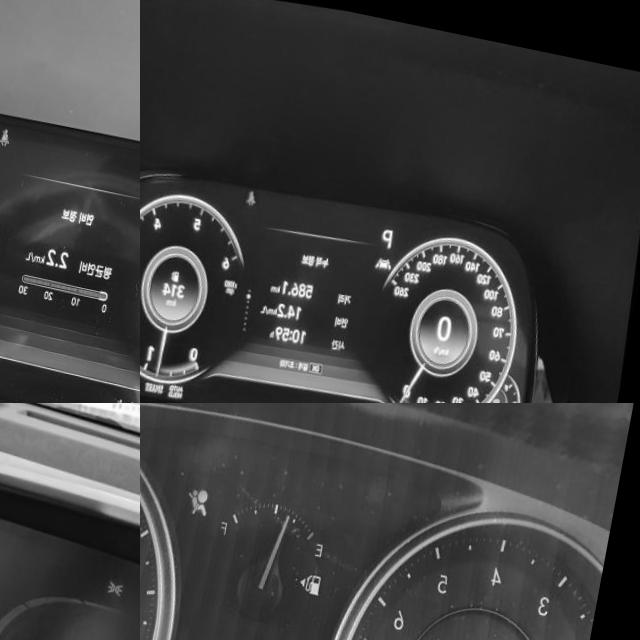LaneCenteringOff: (385, 238, 403, 254)
SideLamp: (114, 569, 132, 586)
